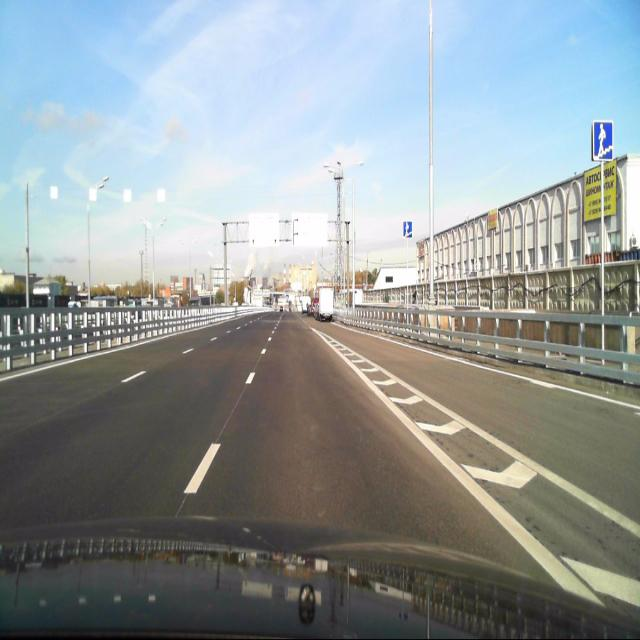road sign: (592, 118, 613, 161), (402, 220, 412, 241)
